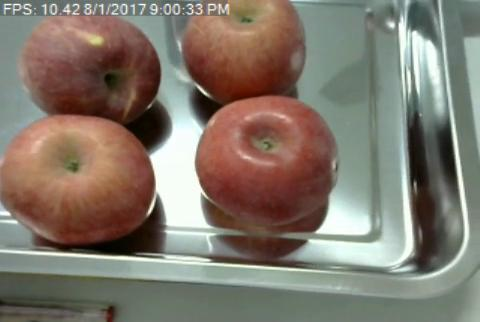apple: (0, 113, 156, 243), (194, 95, 339, 226), (18, 14, 161, 116), (185, 0, 307, 98)
